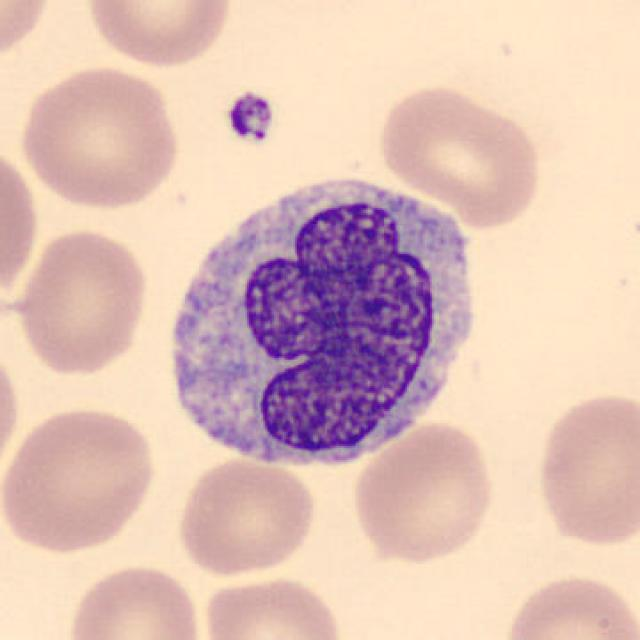Monocyte: (155, 158, 492, 480)
Platelets: (222, 88, 278, 146)
RBC: (373, 80, 546, 230), (14, 62, 185, 212), (0, 404, 160, 557), (348, 418, 499, 566), (9, 226, 153, 379), (172, 455, 318, 578), (530, 386, 638, 552), (62, 560, 206, 640), (82, 0, 236, 71), (198, 571, 348, 640), (498, 569, 640, 640), (0, 139, 43, 319), (0, 0, 55, 72), (0, 333, 23, 487)
